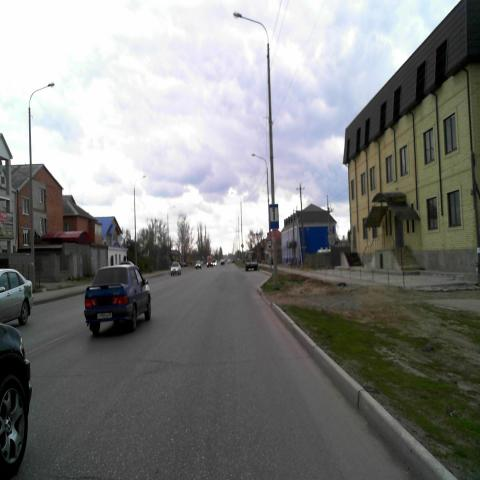7_4: (270, 204, 278, 229)
